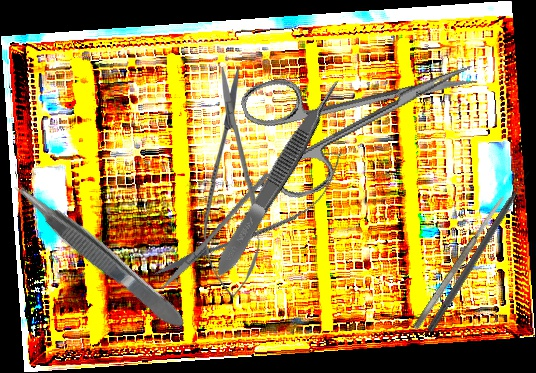Hook Surgical: (426, 168, 535, 335)
Iris Scissors: (237, 20, 494, 206)
Micro Scissor: (138, 127, 361, 308), (200, 66, 263, 298)
Spatula Surgical: (411, 194, 508, 331)
Tissue Forceps: (7, 173, 191, 338), (208, 73, 350, 282)
